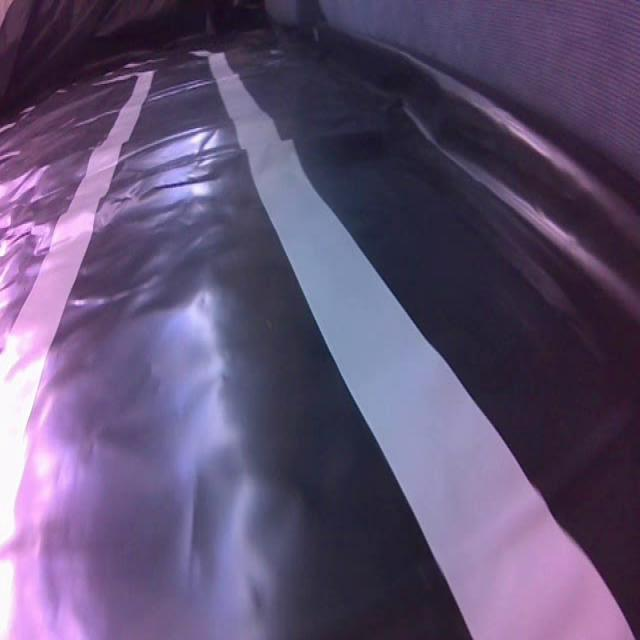LineaCarril: (210, 53, 631, 638), (0, 72, 152, 551), (0, 557, 15, 638)
